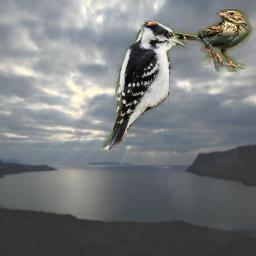Sparrow: (172, 9, 255, 72)
Woodpecker: (103, 20, 191, 150)
